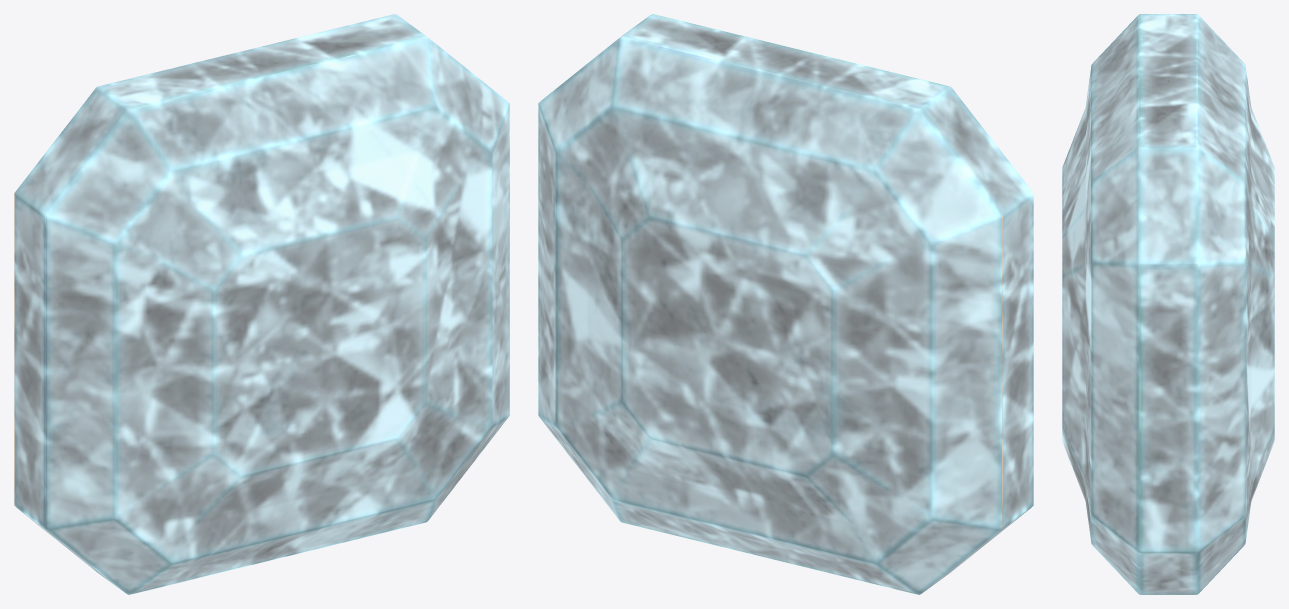
Rendered from Assher.glb.
The picture shows the model from 3 angles, left to right: view 1: azimuth 30°, elevation 25°; view 2: azimuth 150°, elevation 25°; view 3: azimuth 270°, elevation 25°; orthographic projection. The views are drawn at different scales.
Visible parts, largest first — view 1: Plane.005_Diamond_Master_0; view 2: Plane.005_Diamond_Master_0; view 3: Plane.005_Diamond_Master_0.
Boxes of the visible parts, box(x1,y1,x2,y2) form: Plane.005_Diamond_Master_0: box(14, 14, 509, 594); Plane.005_Diamond_Master_0: box(538, 14, 1033, 594); Plane.005_Diamond_Master_0: box(1062, 14, 1274, 594).
Bounding box in the file's own units: 1.11 × 1.11 × 0.4805.
1 material, 1 textured.
